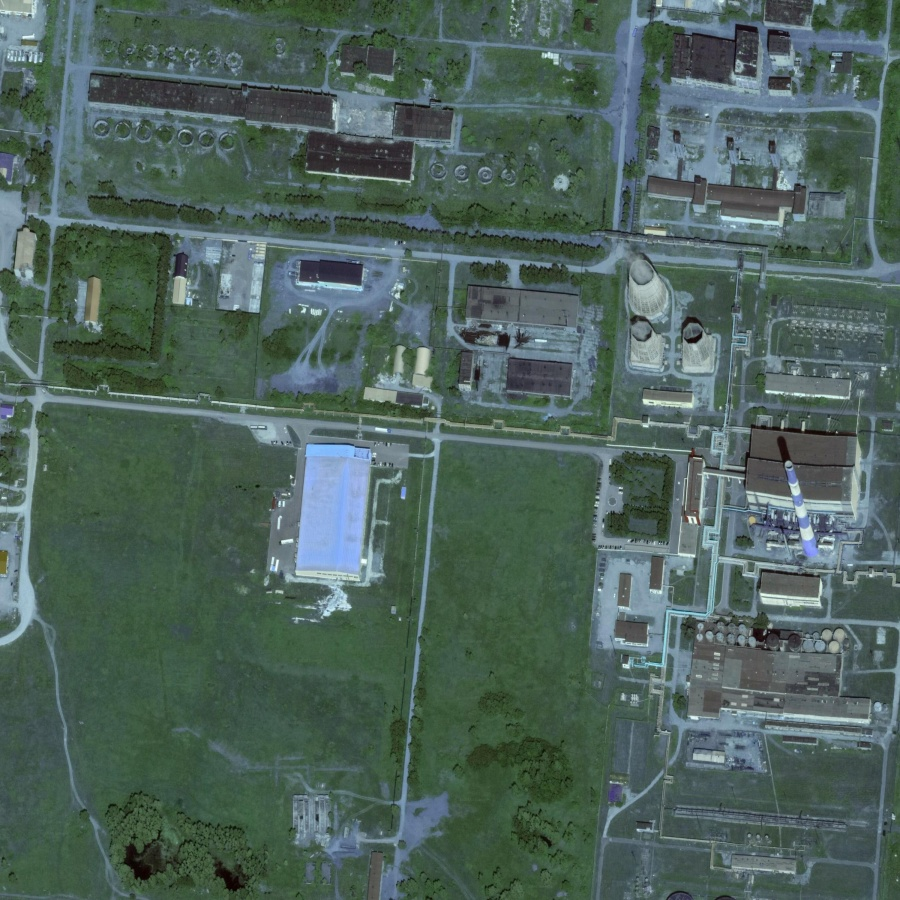PowerPlant: (599, 249, 892, 608)
